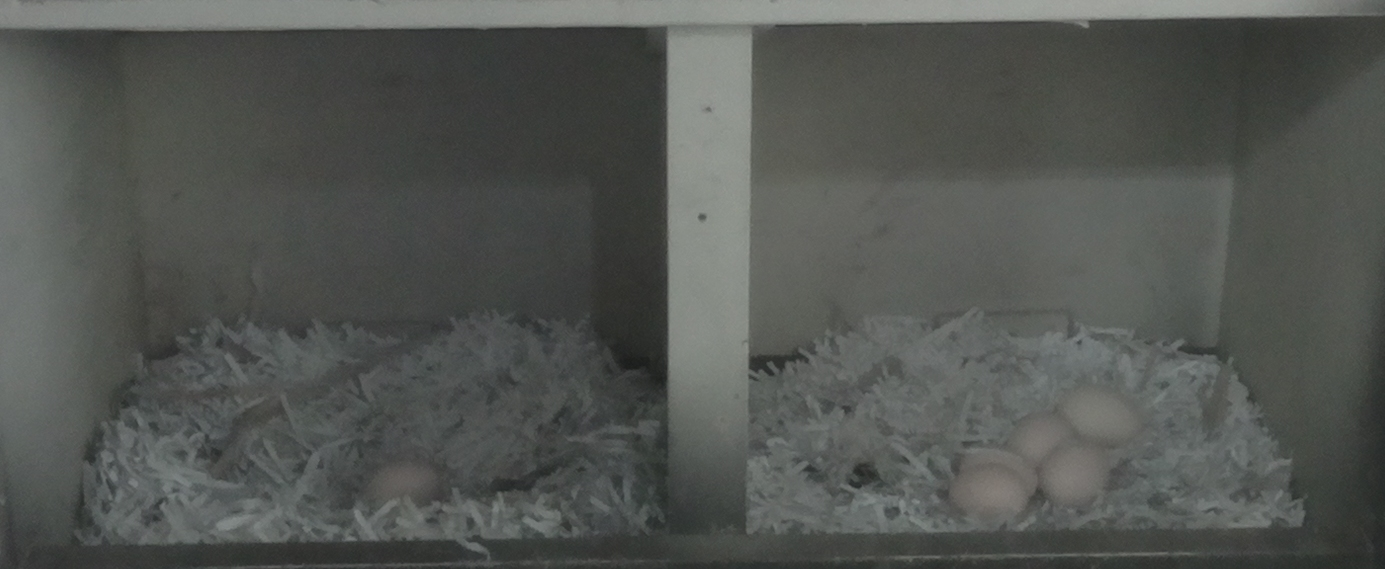Egg: (1068, 383, 1141, 442), (359, 464, 440, 512), (1041, 444, 1109, 501), (941, 472, 1030, 514), (1011, 411, 1071, 461), (960, 444, 1022, 468)
